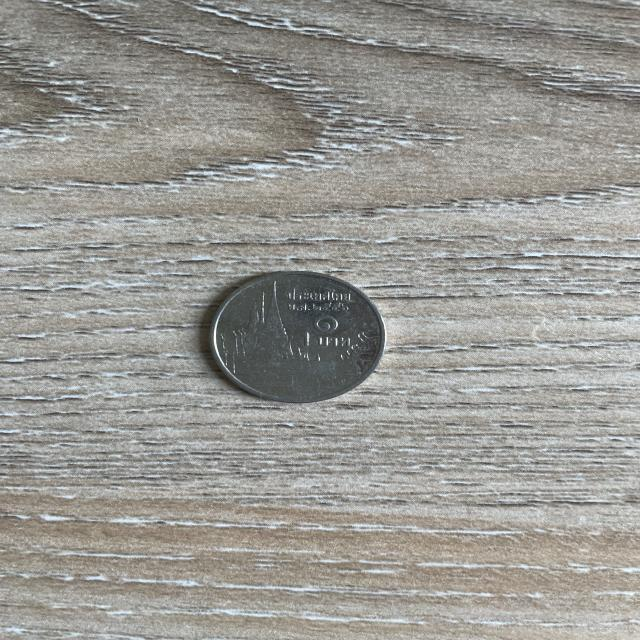1 Bath: (179, 257, 412, 416)
